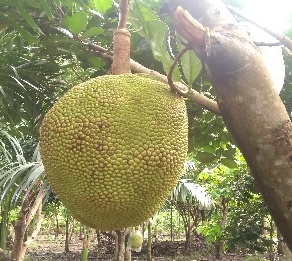Mit: (42, 75, 189, 230)
